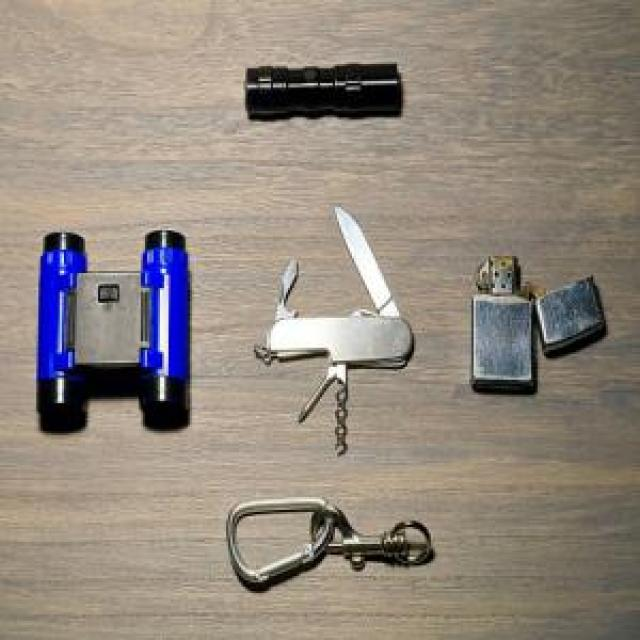knife: (333, 203, 407, 318)
